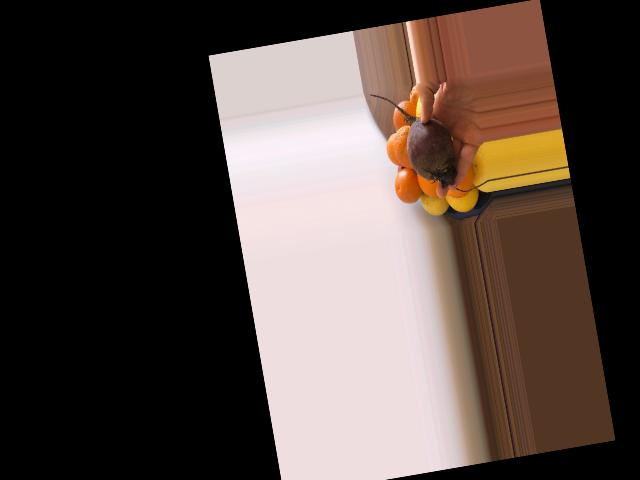beet: (370, 82, 460, 196)
